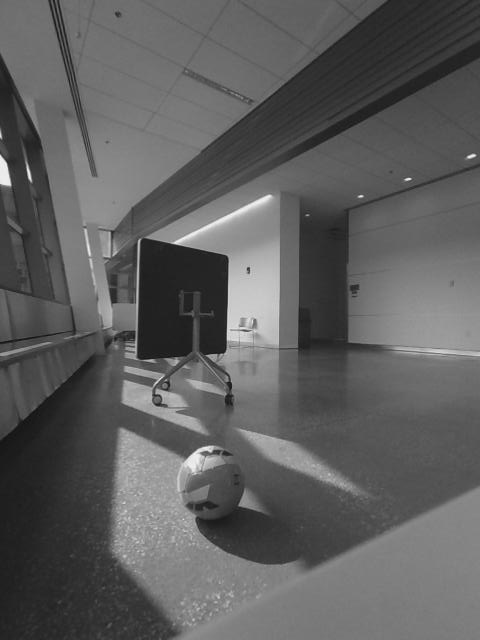ball: (172, 442, 249, 525)
